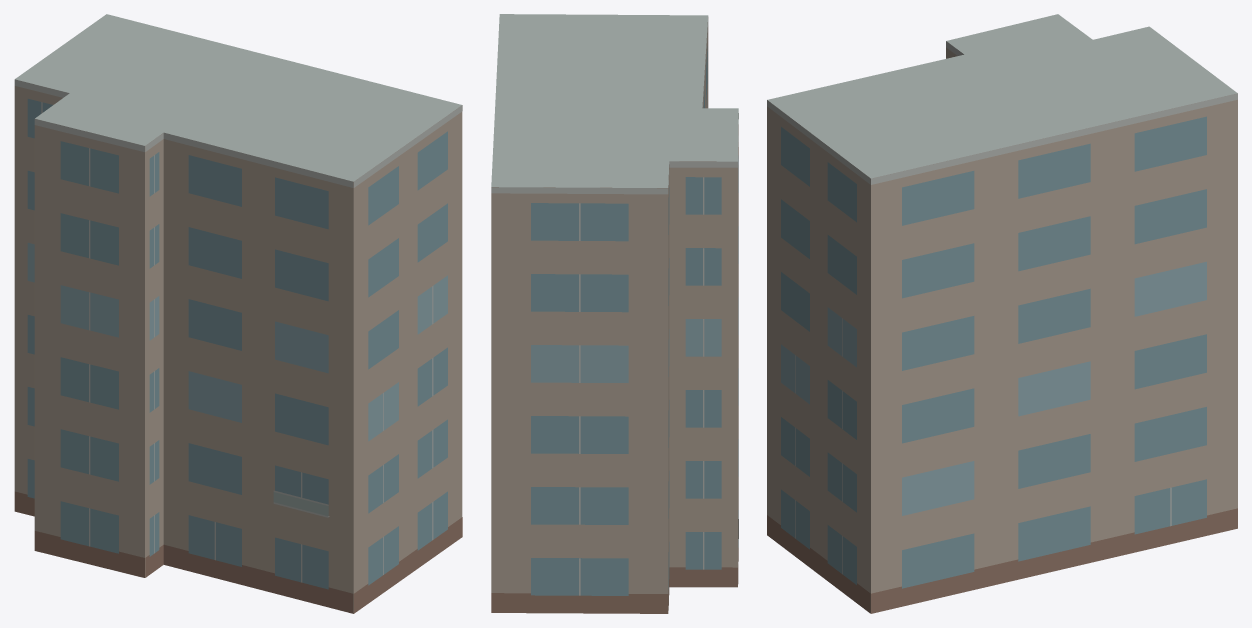
Rendered from survey-upis-32722782.glb.
3 views of the same model, side by side, from view 1: azimuth 30°, elevation 25°; view 2: azimuth 150°, elevation 25°; view 3: azimuth 270°, elevation 25° (orthographic). The views are drawn at different scales.
Visible parts, largest first — view 1: survey-upis-32722782.tmp; view 2: survey-upis-32722782.tmp; view 3: survey-upis-32722782.tmp.
Boxes of the visible parts, <box> form: survey-upis-32722782.tmp: <box>14,14,462,613</box>; survey-upis-32722782.tmp: <box>491,14,738,613</box>; survey-upis-32722782.tmp: <box>767,14,1237,613</box>.
Bounding box in the file's own units: 13.39 × 16.5 × 16.18.
